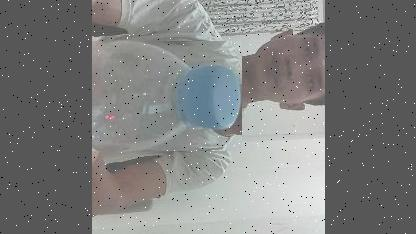Plastic Bottle: (91, 41, 241, 151)
